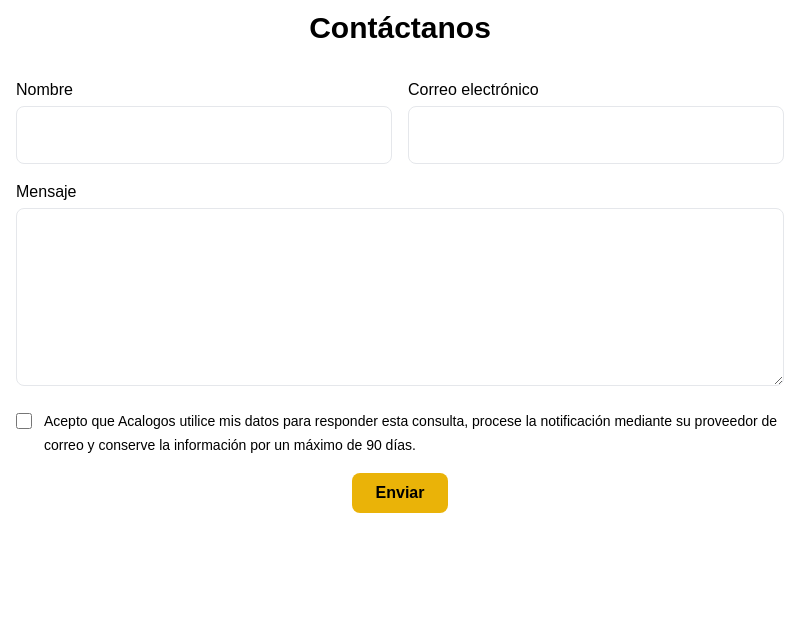
Contacto › exige consentimiento y enfoca el primer campo inválido
Step 1. Click the button "Enviar" → {"x": 400, "y": 493}, box [352,473,448,513]
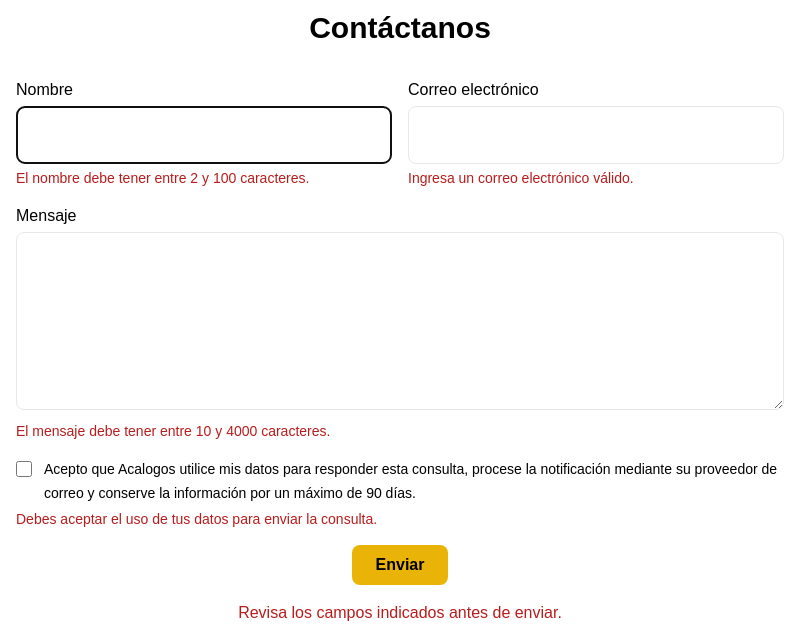
Result: the text "Debes aceptar el uso de tus datos para enviar la consulta." is shown at [16,511,377,527]
